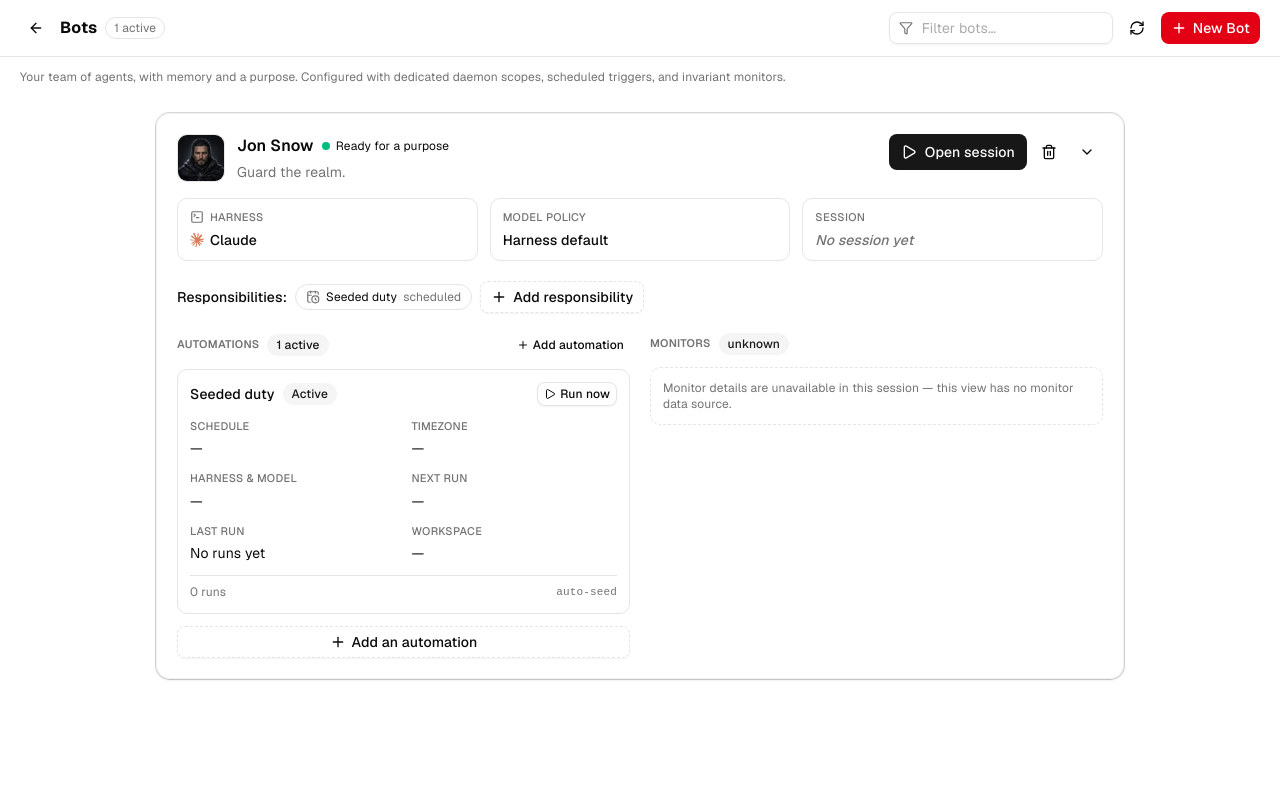
Test: bot open session › surfaces a daemon refusal instead of silence
This screenshot has width=1280, height=800.
Click the button with test id "open-session-bot-1".
click(958, 152)  # box [889,134,1027,170]
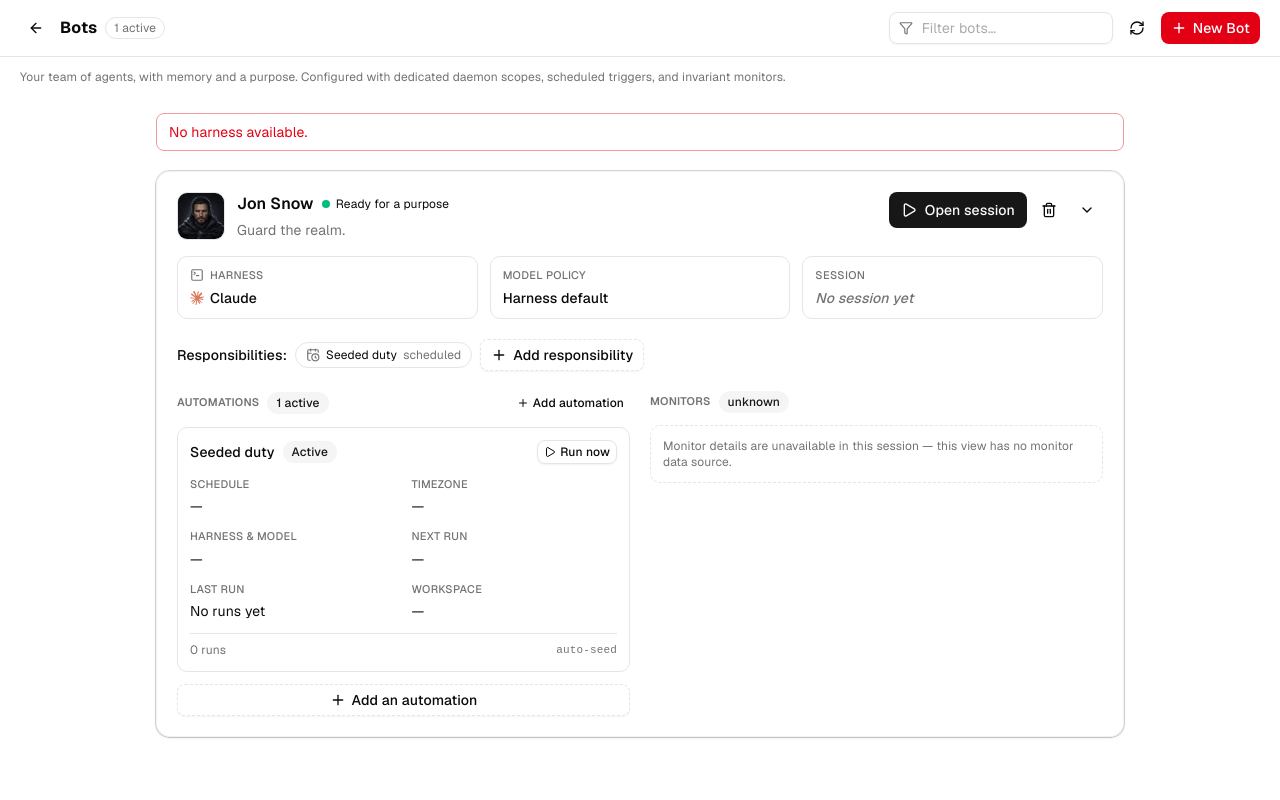
Check: the message reads "No harness available.", box [169,123,308,141]
